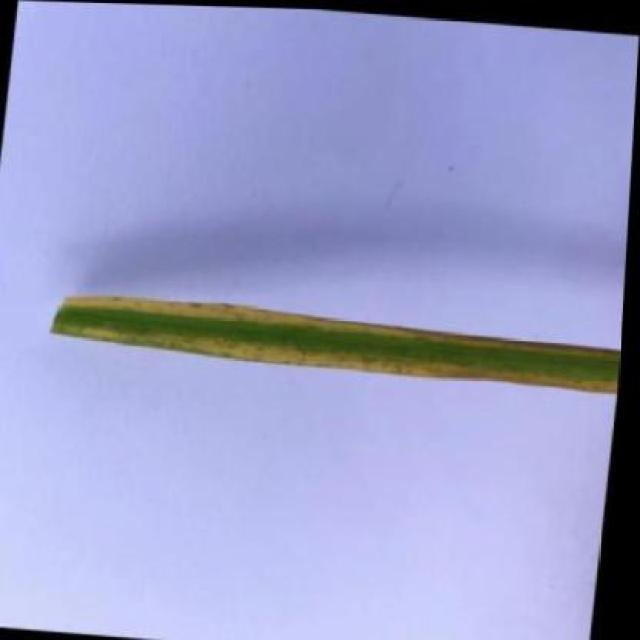Rice False Smut: (46, 287, 625, 388)
